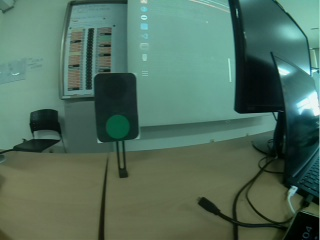green_light: (97, 77, 137, 144)
